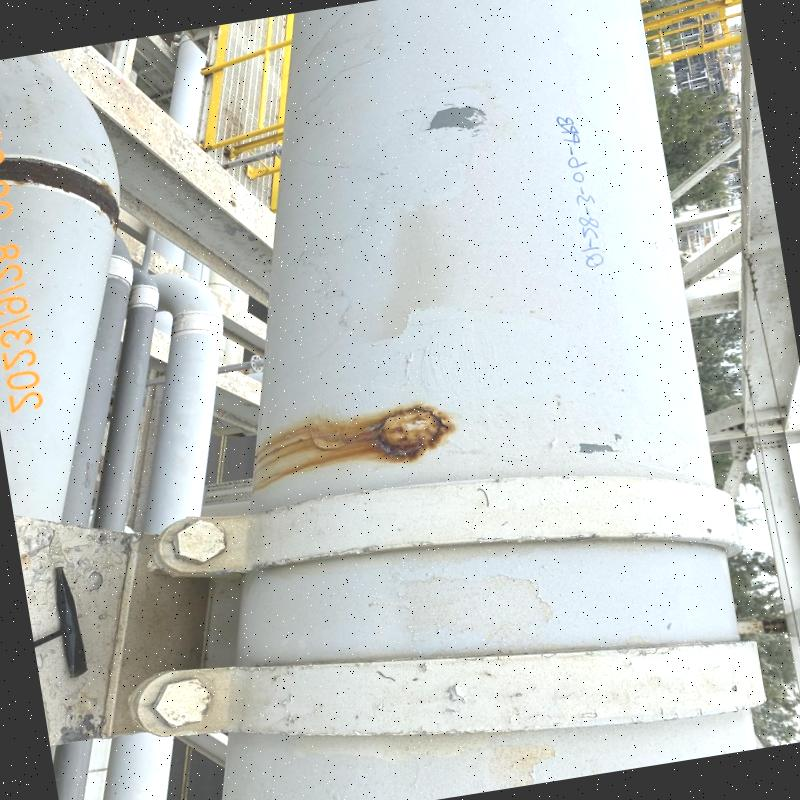Fracture: (428, 404, 447, 443), (380, 404, 423, 419), (372, 420, 390, 454)
corrosion: (390, 432, 424, 458)
